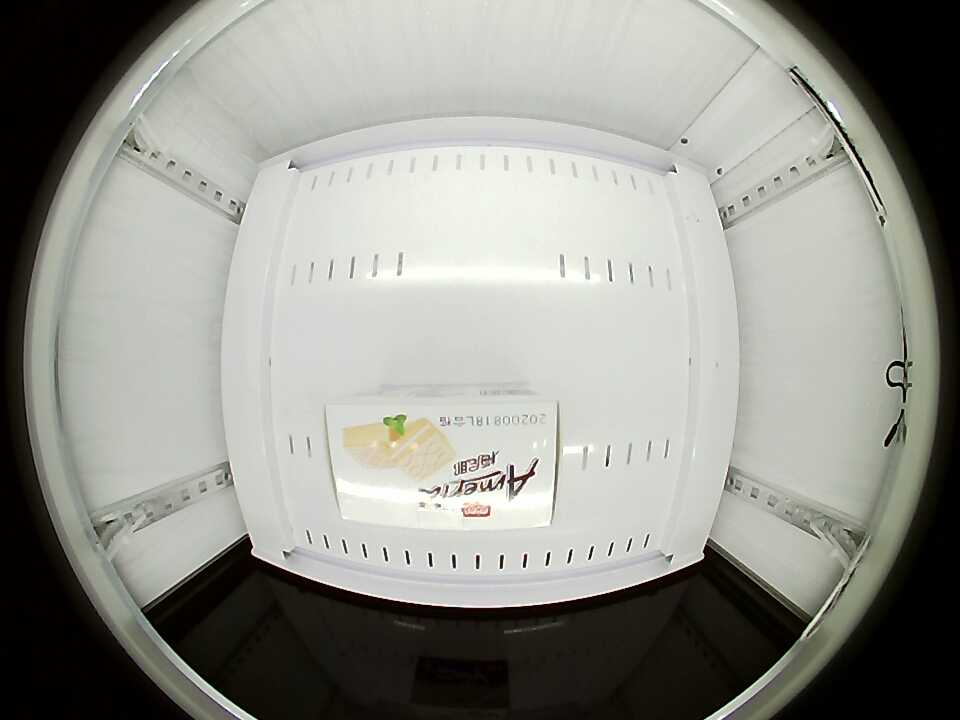meiniye: (326, 391, 559, 527)
